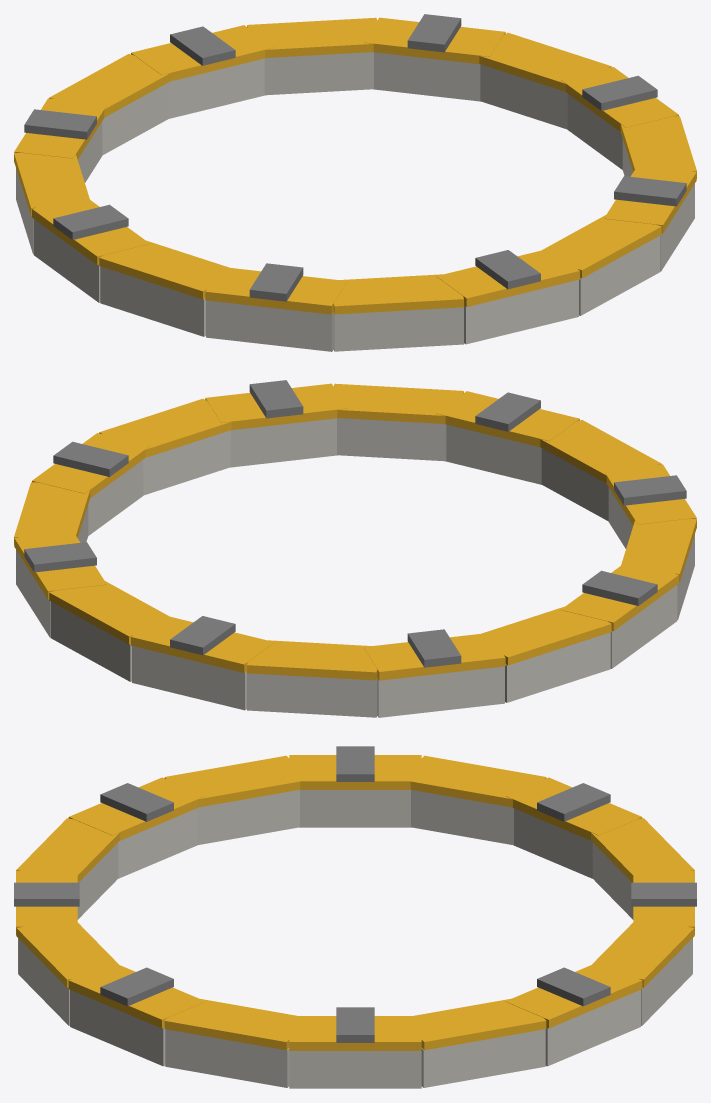
File: pit_rim.glb
3 views of the same model, one above another, from view 1: azimuth 30°, elevation 25°; view 2: azimuth 150°, elevation 25°; view 3: azimuth 270°, elevation 25° (orthographic).
Parts seen in each view (by area): view 1: pit_rim; view 2: pit_rim; view 3: pit_rim.
Boxes of the visible parts, bbox=[...] form: pit_rim: bbox=[14, 14, 696, 351]; pit_rim: bbox=[14, 380, 696, 717]; pit_rim: bbox=[14, 746, 696, 1088].
Bounding box in the file's own units: 3.54 × 0.315 × 3.54.
